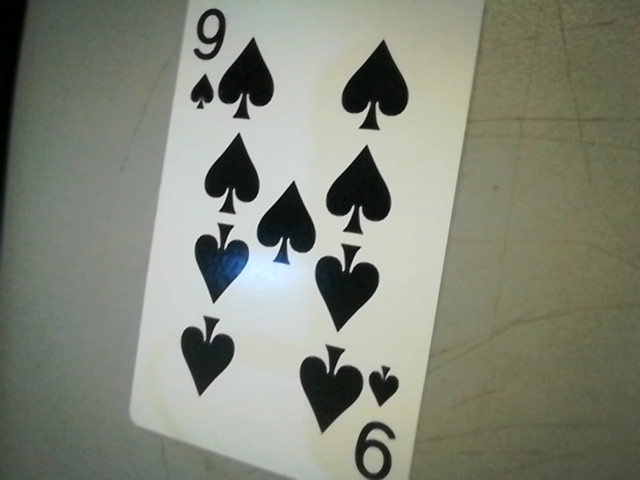ht 9: (348, 351, 413, 480), (177, 0, 234, 116)
